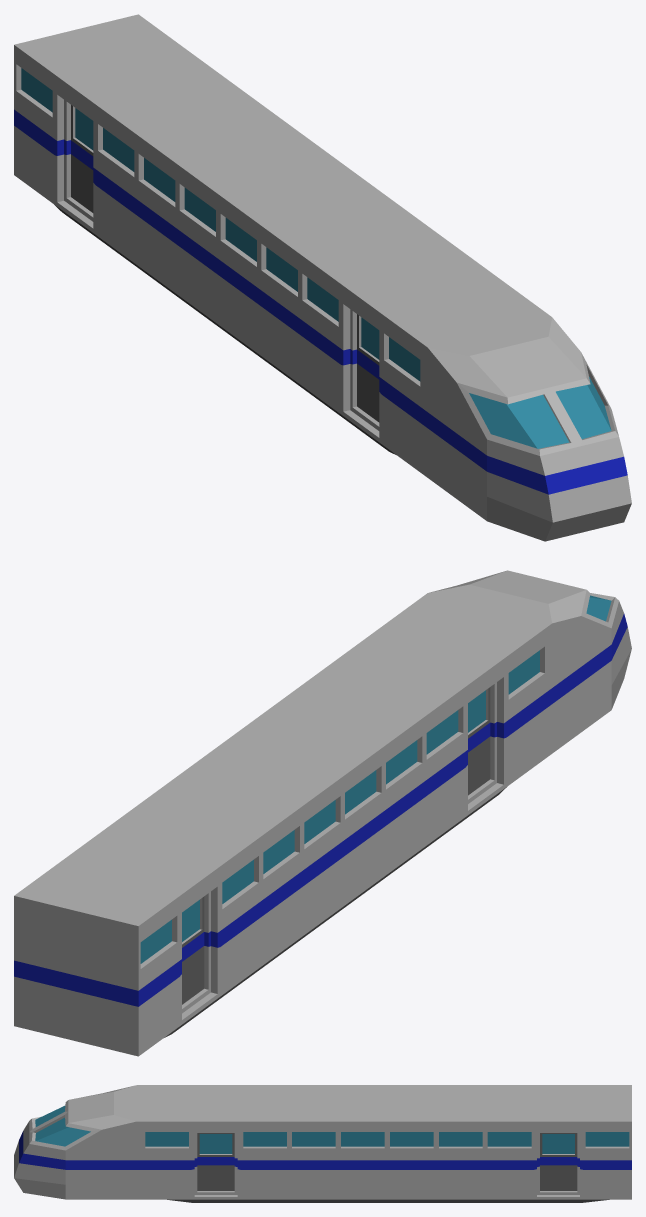
Rendered from new train.fbx.
3 renders of one model, top to bottom at view 1: azimuth 30°, elevation 25°; view 2: azimuth 150°, elevation 25°; view 3: azimuth 270°, elevation 25°, orthographic. The views are drawn at different scales.
Parts seen in each view (by area): view 1: Cube; view 2: Cube; view 3: Cube.
Boxes of the visible parts, x1=… form: Cube: x1=14, y1=14, x2=631, y2=541; Cube: x1=14, y1=570, x2=631, y2=1056; Cube: x1=14, y1=1085, x2=631, y2=1202.
Size of the model in its own units: 200 by 214 by 1436.
